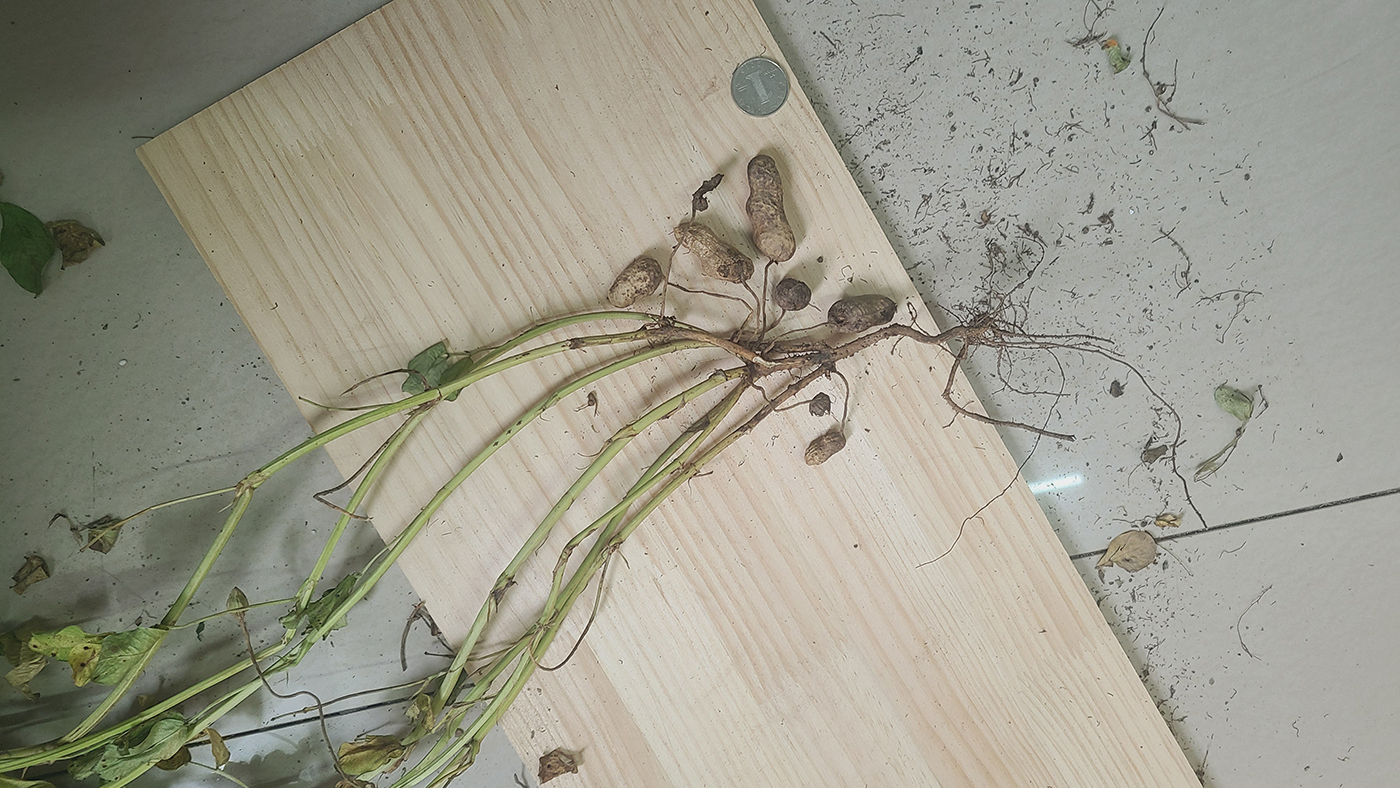h: (607, 258, 664, 308), (804, 432, 846, 466)
l: (747, 156, 797, 262), (675, 224, 753, 283), (826, 295, 896, 333), (692, 173, 725, 212), (773, 278, 812, 311), (810, 392, 833, 417)
